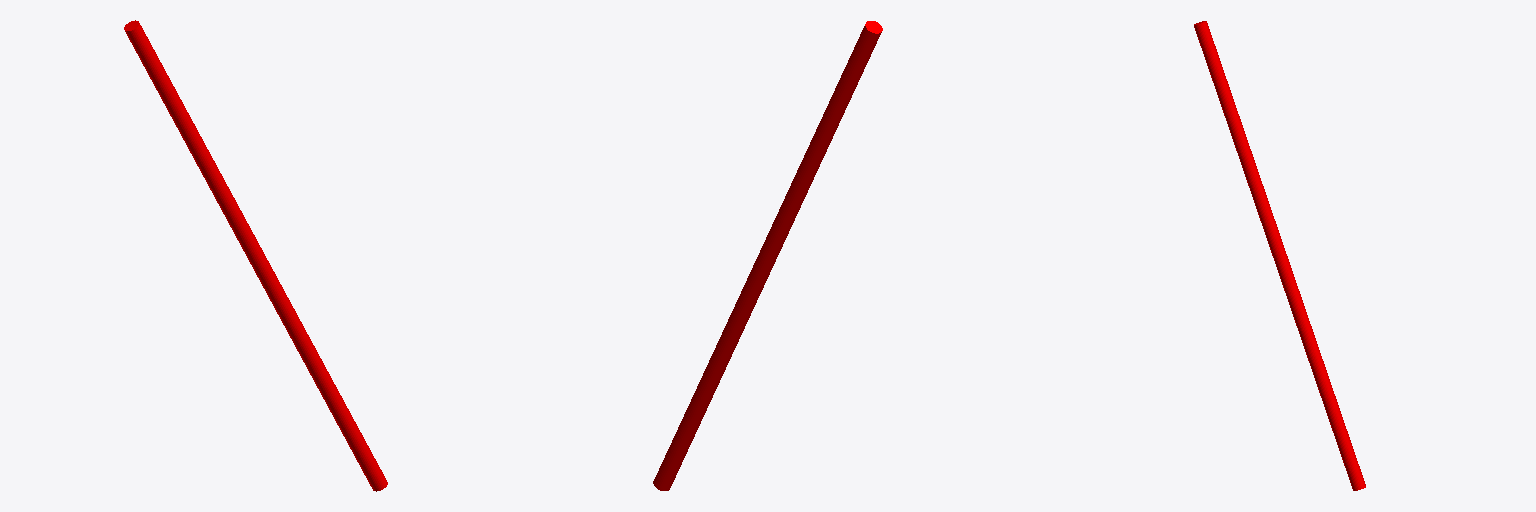
The robot description file, URDF, robot "tree_48.urdf":
<?xml version='1.0' encoding='utf-8'?>
<robot name="tree_48.urdf">
  <link name="branch_0">
    <inertial>
      <origin xyz="0.0 0.0 0.0" rpy="0.0 -0.0 0.0" />
      <mass value="1.0" />
      <inertia ixx="1.0" ixy="0.0" ixz="0.0" iyy="1.0" iyz="0.0" izz="1.0" />
    </inertial>
    <visual name="branch_0_visual">
      <geometry>
        <cylinder radius="0.051535464295580084" length="3.6835427773120797" />
      </geometry>
      <material name="semantic_material" />
      <origin xyz="-0.7793707264453299 0.16370100073371266 1.6606941624486" rpy="1.3581429370101547e-17 0.44714995541507363 2.9345597241758363" />
    </visual>
    <collision name="branch_0_collision">
      <geometry>
        <cylinder radius="0.051535464295580084" length="3.6835427773120797" />
      </geometry>
      <origin xyz="-0.7793707264453299 0.16370100073371266 1.6606941624486" rpy="1.3581429370101547e-17 0.44714995541507363 2.9345597241758363" />
    </collision>
  </link>
  <material name="semantic_material">
    <color rgba="1. 0. 0. 1." />
  </material>
</robot>

--- What the picture shows (computed from the rendered views, not written in the file) ---
The picture shows the robot from 3 angles, left to right: view 1: azimuth 30°, elevation 25°; view 2: azimuth 150°, elevation 25°; view 3: azimuth 330°, elevation 25°; orthographic projection.
Model tree_48.urdf with 1 links and 0 joints (none), rooted at branch_0, posed every joint at zero.
Visible links, largest first — view 1: branch_0; view 2: branch_0; view 3: branch_0.
Link boxes in pixels (x1,y1,x2,y2): branch_0: (124, 20, 387, 491); branch_0: (653, 21, 882, 490); branch_0: (1194, 21, 1365, 490).
Size in the robot's own frame: 1.65 by 0.4301 by 3.37 metres.
Geometry: primitives only (box / cylinder / sphere), no mesh files.
